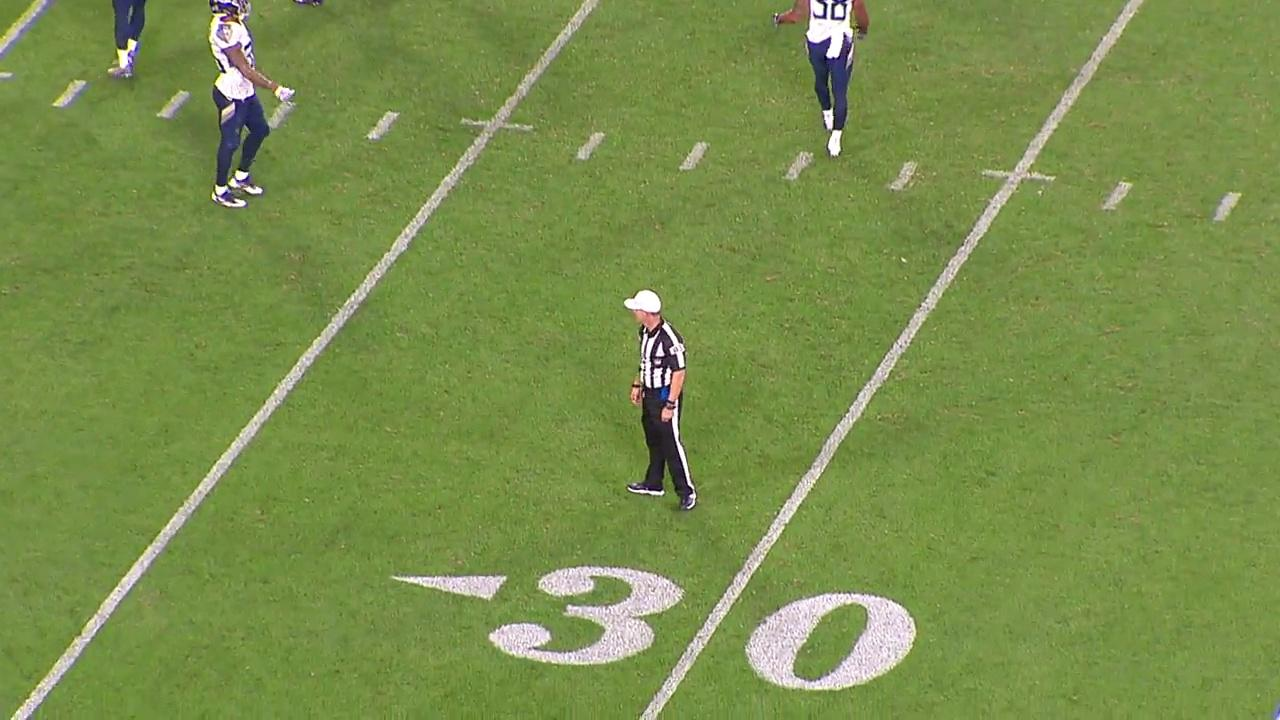five_hash: (458, 116, 534, 134), (981, 169, 1055, 184)
hash: (365, 109, 402, 146), (780, 147, 818, 182), (154, 84, 191, 119), (52, 76, 90, 110), (1211, 187, 1244, 224), (889, 155, 921, 192), (678, 138, 711, 173), (572, 128, 604, 163), (1103, 179, 1137, 211), (265, 99, 296, 132)
number: (383, 540, 935, 700)
